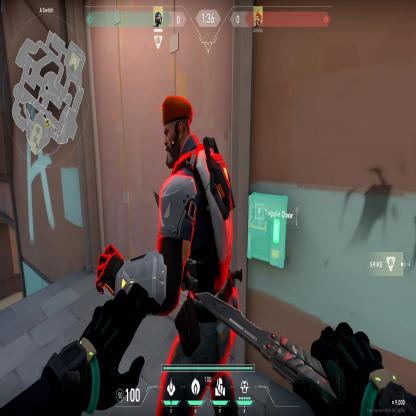enemy: (94, 89, 243, 296)
